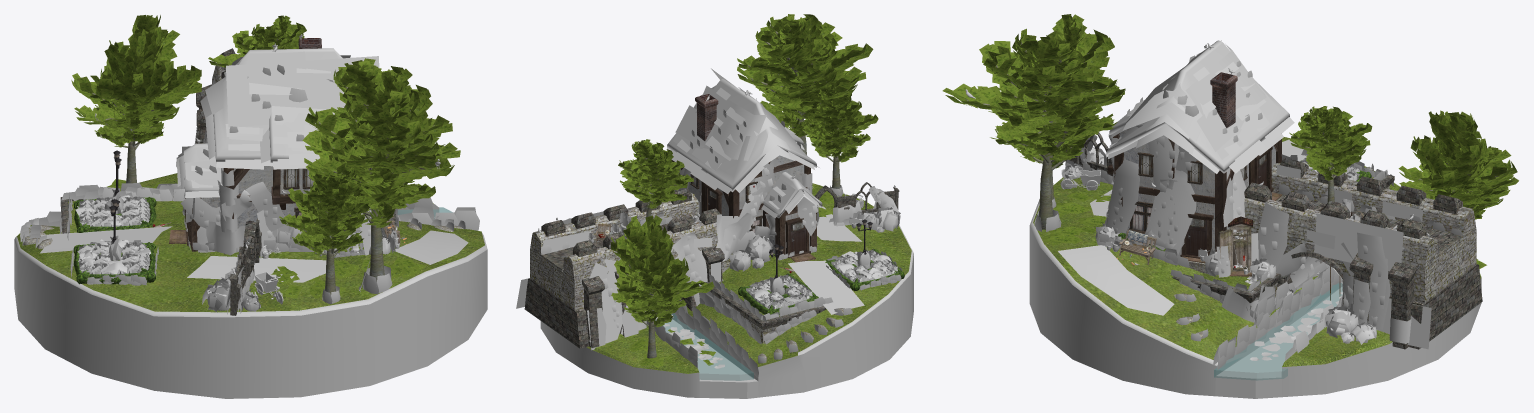
The model's file is FinalScene-Sketchfab.fbx.
3 views of the same model, side by side, from view 1: azimuth 30°, elevation 25°; view 2: azimuth 150°, elevation 25°; view 3: azimuth 270°, elevation 25° (orthographic). The views are drawn at different scales.
Visible parts, largest first — view 1: polySurface2124, pasted__polySurface6105, pasted__polySurface6103, pasted__polySurface6100, pPlane366, polySurface3380, pasted__polySurface6104, pPlane437, pPlane436, pPlane434, pCube144, pPlane368 (+20 smaller); view 2: polySurface2124, pasted__polySurface58, pasted__polySurface6105, pasted__polySurface6103, pasted__polySurface6100, pasted__polySurface6104, polySurface3380, pPlane372, pPlane436, pCube78, pCube146, pPlane174 (+29 smaller); view 3: polySurface2124, pasted__polySurface58, pasted__polySurface6105, pasted__polySurface6103, pasted__polySurface6104, polySurface3380, pPlane434, pCube78, pPlane387, pPlane109, pPlane382, pPlane372 (+25 smaller).
Boxes of the visible parts, x1,y1,x2,y2 form: polySurface2124: (14, 173, 487, 398); pasted__polySurface6105: (302, 58, 460, 281); pasted__polySurface6103: (71, 15, 201, 183); pasted__polySurface6100: (279, 156, 374, 294); pPlane366: (226, 56, 379, 127); polySurface3380: (213, 48, 342, 163); pasted__polySurface6104: (208, 15, 306, 67); pPlane437: (187, 256, 326, 282); pPlane436: (40, 226, 172, 253); pPlane434: (393, 230, 468, 264); pCube144: (229, 218, 261, 315); pPlane368: (247, 51, 306, 79); polySurface2124: (540, 183, 913, 398); pasted__polySurface58: (524, 188, 733, 348); pasted__polySurface6105: (737, 14, 873, 154); pasted__polySurface6103: (611, 215, 714, 358); pasted__polySurface6100: (802, 79, 878, 189); pasted__polySurface6104: (618, 139, 693, 217); polySurface3380: (667, 79, 816, 192); pPlane372: (696, 85, 766, 160); pPlane436: (788, 260, 864, 314); pCube78: (655, 313, 753, 380); pCube146: (706, 278, 826, 343); pPlane174: (692, 306, 758, 378); polySurface2124: (1029, 137, 1481, 398); pasted__polySurface58: (1244, 158, 1482, 349); pasted__polySurface6105: (942, 14, 1125, 229); pasted__polySurface6103: (1398, 110, 1518, 219); pasted__polySurface6104: (1289, 106, 1372, 202); polySurface3380: (1106, 40, 1289, 173); pPlane434: (1058, 245, 1174, 315); pCube78: (1214, 283, 1342, 380); pPlane387: (1314, 213, 1403, 271); pPlane109: (1146, 170, 1196, 255); pPlane382: (1122, 83, 1208, 142); pPlane372: (1185, 44, 1266, 115).
Bounding box in the file's own units: 2009 × 1411 × 2534.
